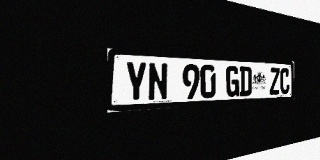0: (200, 64, 216, 98)
9: (183, 64, 200, 99)
C: (280, 68, 289, 94)
D: (240, 66, 252, 96)
G: (226, 66, 239, 97)
N: (148, 62, 168, 101)
Y: (125, 61, 147, 102)
Z: (270, 67, 280, 95)
